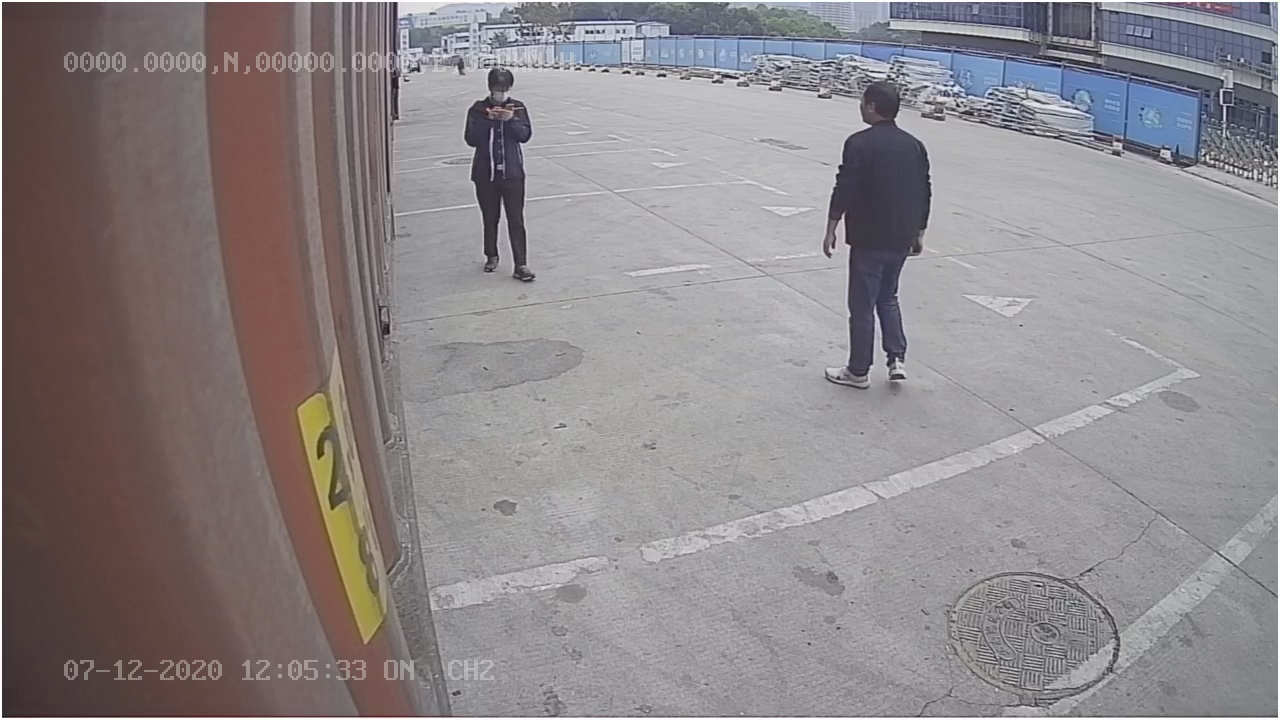person: (818, 75, 935, 390)
